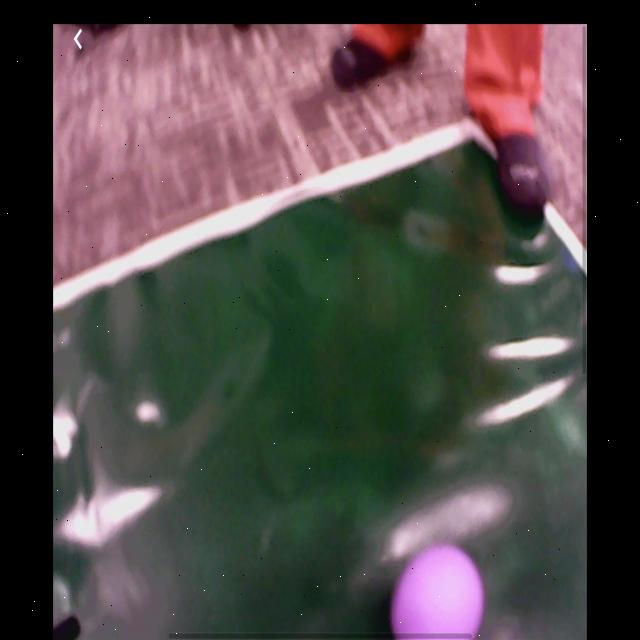ball: (388, 543, 487, 640)
